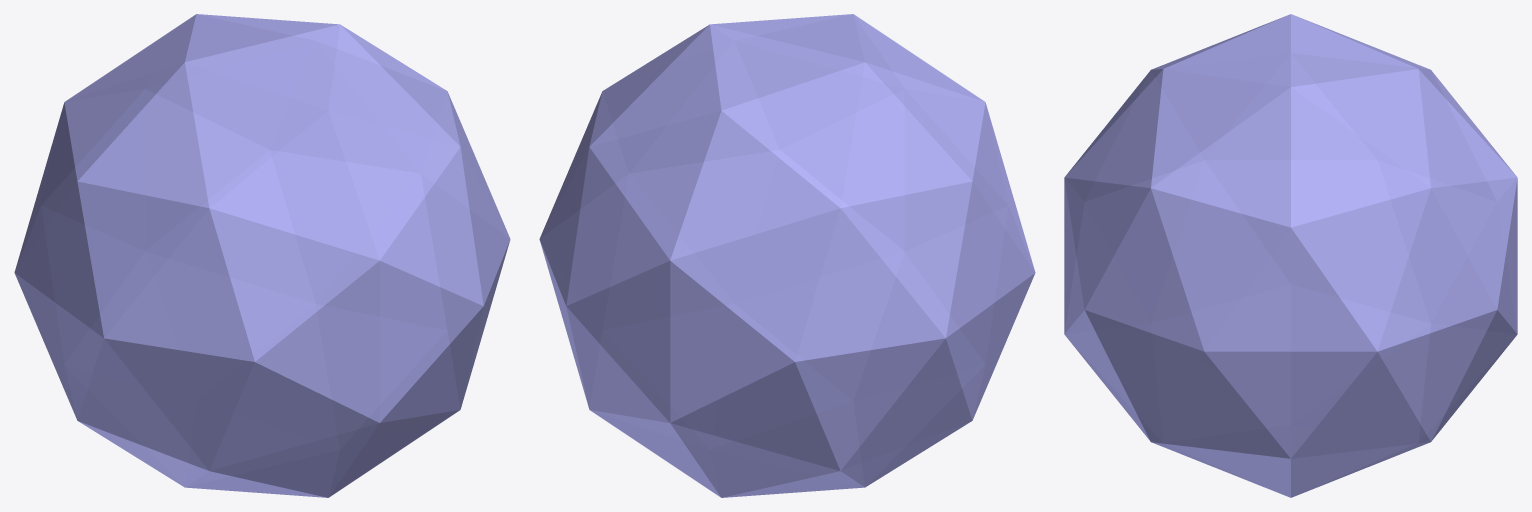
Rendered from BiscribedPentakisDodecahedron.obj.
3 views of the same model, side by side, from view 1: azimuth 30°, elevation 25°; view 2: azimuth 150°, elevation 25°; view 3: azimuth 270°, elevation 25° (orthographic). The views are drawn at different scales.
Bounding box in the file's own units: 1.87 × 1.87 × 1.87.
